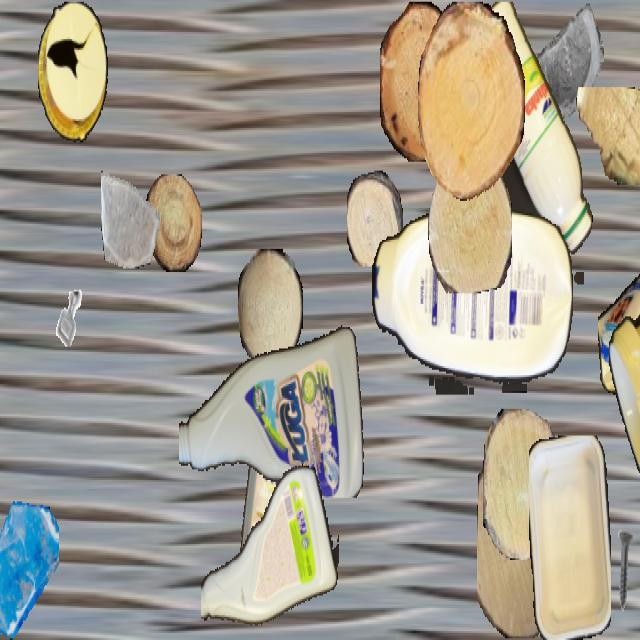glass: (532, 2, 604, 130), (0, 500, 58, 638), (101, 164, 159, 266)
metal: (542, 439, 602, 546), (48, 279, 92, 357), (600, 528, 640, 613), (0, 356, 4, 452)
plastic: (372, 210, 572, 394), (464, 1, 594, 282), (179, 313, 367, 498), (201, 457, 339, 638), (529, 436, 611, 638), (235, 386, 301, 602), (38, 2, 108, 140), (598, 237, 640, 407), (608, 288, 640, 501)
wood: (418, 2, 524, 201), (477, 439, 565, 638), (380, 2, 462, 162), (428, 150, 512, 292), (483, 409, 563, 558), (238, 249, 302, 363), (575, 87, 640, 183), (145, 174, 201, 270), (347, 170, 403, 266)
